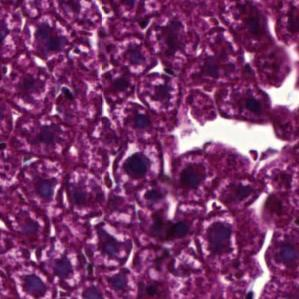inflammation: (108, 139, 169, 191), (87, 219, 132, 274), (198, 211, 240, 263), (8, 261, 56, 299)
